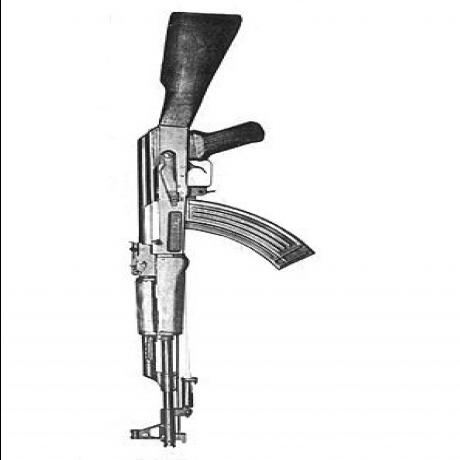weapon: (123, 6, 311, 460)
